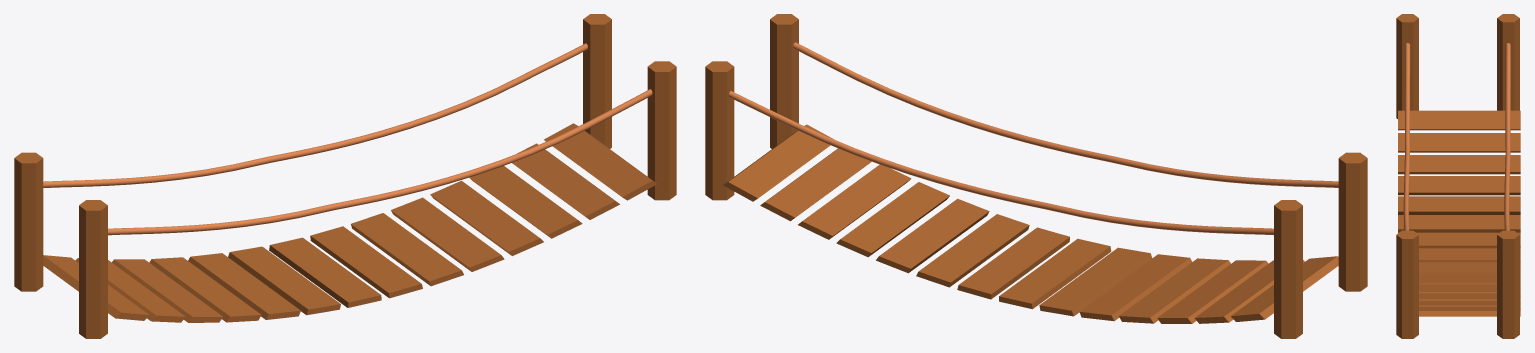
Rendered from silta.fbx.
3 renders of one model, left to right at view 1: azimuth 30°, elevation 25°; view 2: azimuth 150°, elevation 25°; view 3: azimuth 270°, elevation 25°, orthographic. The views are drawn at different scales.
Visible parts, largest first — view 1: Cube.001, BezierCurve.001, Cylinder, BezierCurve, Cylinder.002, Cylinder.001, Cylinder.003; view 2: Cube.001, BezierCurve.001, BezierCurve, Cylinder.001, Cylinder.003, Cylinder, Cylinder.002; view 3: Cube.001, Cylinder.003, Cylinder.002, Cylinder, Cylinder.001, BezierCurve, BezierCurve.001.
Part boxes in pixels (x1=…): Cube.001: x1=43, y1=123, x2=657, y2=322; BezierCurve.001: x1=108, y1=89, x2=652, y2=235; Cylinder: x1=14, y1=152, x2=43, y2=291; BezierCurve: x1=43, y1=43, x2=587, y2=187; Cylinder.002: x1=647, y1=61, x2=676, y2=200; Cylinder.001: x1=79, y1=200, x2=107, y2=338; Cylinder.003: x1=583, y1=14, x2=611, y2=148; Cube.001: x1=723, y1=124, x2=1338, y2=323; BezierCurve.001: x1=793, y1=42, x2=1338, y2=187; BezierCurve: x1=728, y1=91, x2=1273, y2=235; Cylinder.001: x1=1338, y1=152, x2=1367, y2=291; Cylinder.003: x1=705, y1=61, x2=734, y2=200; Cylinder: x1=1274, y1=200, x2=1302, y2=338; Cylinder.002: x1=770, y1=14, x2=798, y2=148; Cube.001: x1=1398, y1=110, x2=1520, y2=316; Cylinder.003: x1=1497, y1=230, x2=1519, y2=338; Cylinder.002: x1=1396, y1=230, x2=1418, y2=338; Cylinder: x1=1497, y1=14, x2=1519, y2=110; Cylinder.001: x1=1396, y1=14, x2=1418, y2=118; BezierCurve: x1=1504, y1=43, x2=1510, y2=230; BezierCurve.001: x1=1403, y1=43, x2=1410, y2=230.
Size of the model in its own units: 829 by 214 by 194.
